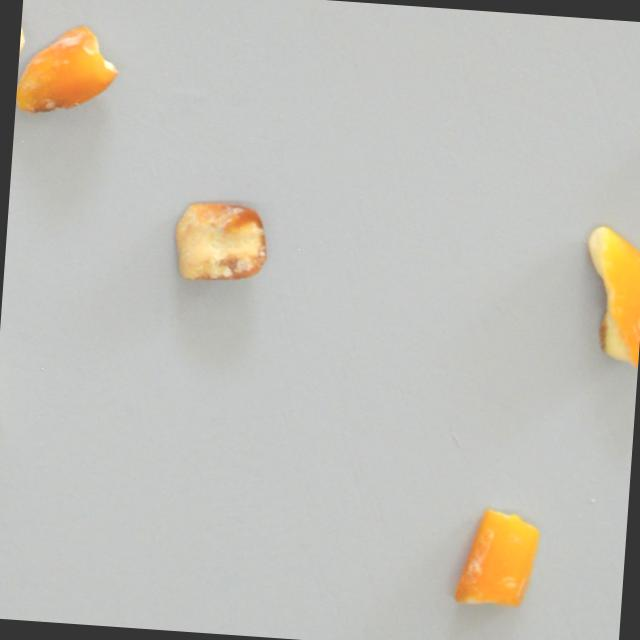dañado: (13, 21, 124, 126), (438, 507, 548, 612), (165, 190, 274, 295), (578, 223, 640, 367)
